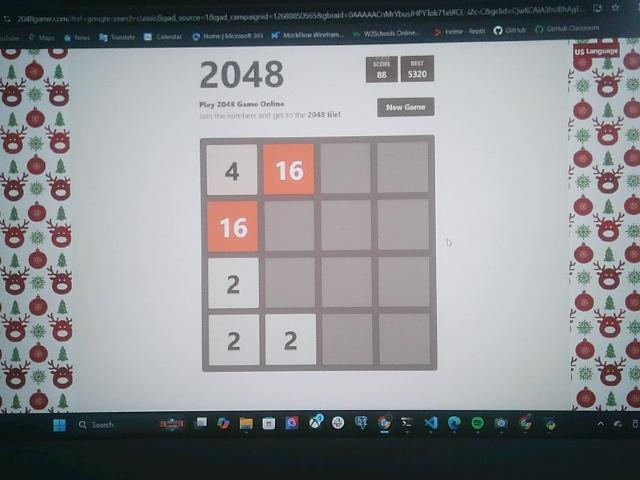best_score_box: (401, 56, 435, 82)
board: (201, 136, 437, 371)
button: (377, 97, 435, 118)
score_box: (365, 55, 397, 83)
tile: (262, 143, 316, 196), (264, 312, 317, 366), (208, 199, 260, 254), (208, 257, 260, 311), (208, 313, 259, 366), (207, 144, 258, 196)
